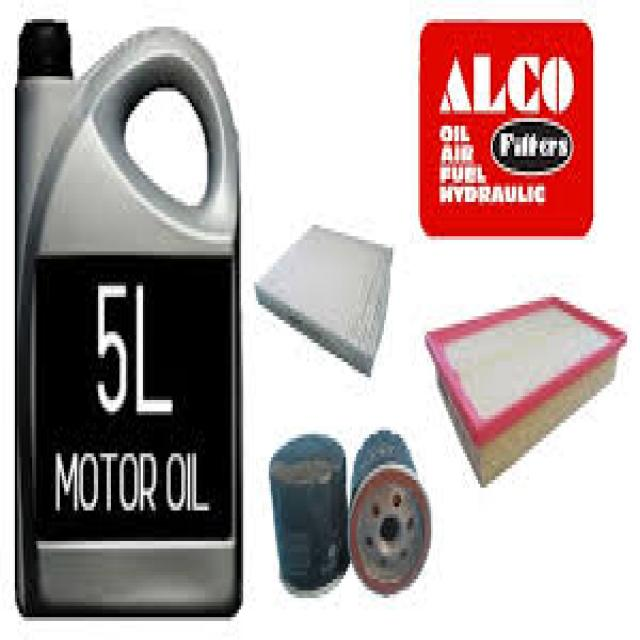air_filter: (420, 293, 617, 485), (253, 221, 396, 377)
motor_oil: (8, 18, 241, 624)
oil_filter: (353, 418, 432, 598), (273, 430, 349, 598)
